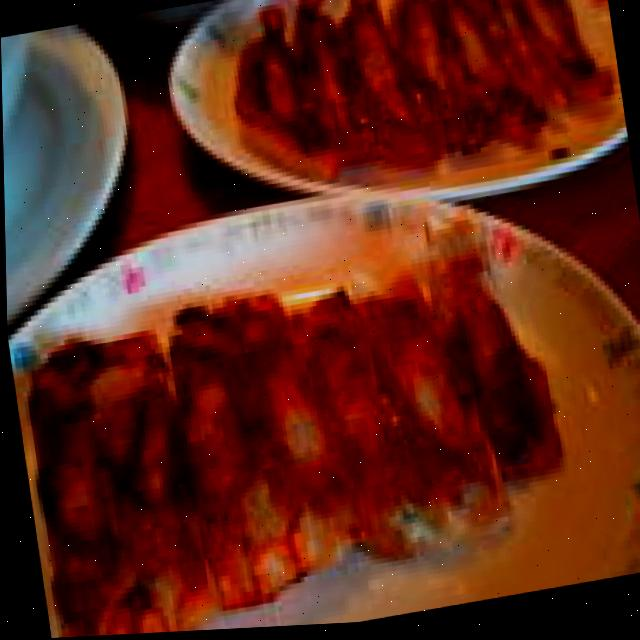带馅早点: (5, 237, 569, 637)
